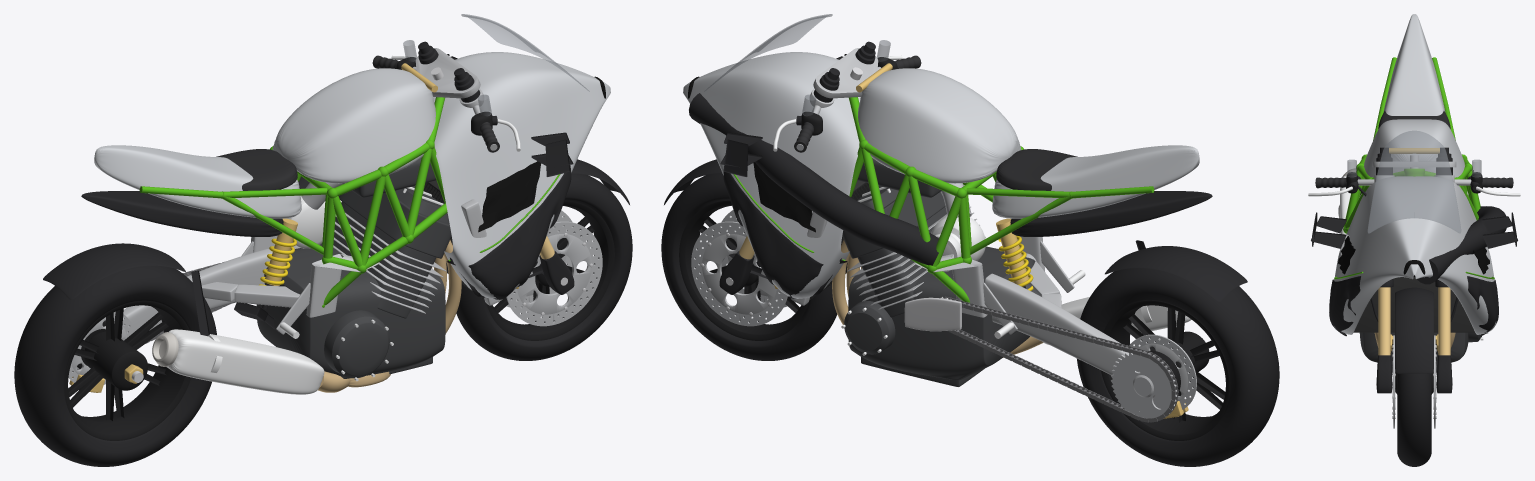
File: KawasakiH2R.fbx
3 views of the same model, side by side, from view 1: azimuth 30°, elevation 25°; view 2: azimuth 150°, elevation 25°; view 3: azimuth 270°, elevation 25° (orthographic). The views are drawn at different scales.
Parts seen in each view (by area): view 1: H2R_Body_Cowl, H2R_Tire_Rear, H2R_Body_Tank, H2R_Engine_Crankcase, H2R_Body_Tail, H2R_Tire_Front, H2R_Frame_Trellis, H2R_Exhaust_Silencer, H2R_Rim_Rear, H2R_Body_LowerCowl_R, H2R_Body_TailLower, H2R_Body_Rear_Hugger (+26 smaller); view 2: H2R_Tire_Rear, H2R_Body_Cowl, H2R_Body_Tank, H2R_Engine_Crankcase, H2R_RamAir_Duct, H2R_Body_Tail, H2R_Tire_Front, H2R_Frame_Trellis, H2R_Swingarm_Arm, H2R_Body_TailLower, H2R_Body_LowerCowl_L, H2R_Chain (+28 smaller); view 3: H2R_Body_Cowl, H2R_Body_Windscreen, H2R_Body_Tail, H2R_Body_Front_Fender, H2R_Body_Tank, H2R_Tire_Front, H2R_Radiator_Core, H2R_RamAir_Duct, H2R_Frame_Trellis, H2R_Body_LowerCowl_R, H2R_Body_LowerCowl_L, H2R_Engine_Crankcase (+17 smaller).
Boxes of the visible parts, x1,y1,x2,y2 form: H2R_Body_Cowl: (433, 52, 610, 298); H2R_Tire_Rear: (14, 265, 216, 466); H2R_Body_Tank: (272, 68, 435, 183); H2R_Engine_Crankcase: (256, 244, 445, 378); H2R_Body_Tail: (94, 145, 301, 218); H2R_Tire_Front: (456, 173, 632, 360); H2R_Frame_Trellis: (270, 97, 447, 307); H2R_Exhaust_Silencer: (166, 329, 324, 394); H2R_Rim_Rear: (64, 300, 191, 440); H2R_Body_LowerCowl_R: (447, 165, 571, 299); H2R_Body_TailLower: (81, 191, 283, 236); H2R_Body_Rear_Hugger: (43, 243, 185, 299); H2R_Tire_Rear: (1076, 268, 1279, 466); H2R_Body_Cowl: (683, 52, 860, 298); H2R_Body_Tank: (858, 68, 1021, 183); H2R_Engine_Crankcase: (848, 246, 1035, 380); H2R_RamAir_Duct: (689, 93, 938, 265); H2R_Body_Tail: (992, 145, 1199, 218); H2R_Tire_Front: (661, 173, 837, 360); H2R_Frame_Trellis: (849, 97, 1023, 302); H2R_Swingarm_Arm: (984, 273, 1128, 374); H2R_Body_TailLower: (1010, 191, 1212, 236); H2R_Body_LowerCowl_L: (723, 172, 847, 298); H2R_Chain: (939, 296, 1178, 422); H2R_Body_Cowl: (1334, 176, 1496, 334); H2R_Body_Windscreen: (1367, 130, 1461, 233); H2R_Body_Tail: (1383, 14, 1445, 115); H2R_Body_Front_Fender: (1395, 287, 1433, 373); H2R_Body_Tank: (1364, 119, 1464, 178); H2R_Tire_Front: (1397, 373, 1431, 466); H2R_Radiator_Core: (1354, 277, 1474, 332); H2R_RamAir_Duct: (1417, 206, 1506, 284); H2R_Frame_Trellis: (1343, 154, 1480, 233); H2R_Body_LowerCowl_R: (1329, 276, 1360, 336); H2R_Body_LowerCowl_L: (1467, 276, 1498, 335); H2R_Engine_Crankcase: (1359, 332, 1468, 362).
Bounding box in the file's own units: 2.08 × 1.16 × 0.7502.
